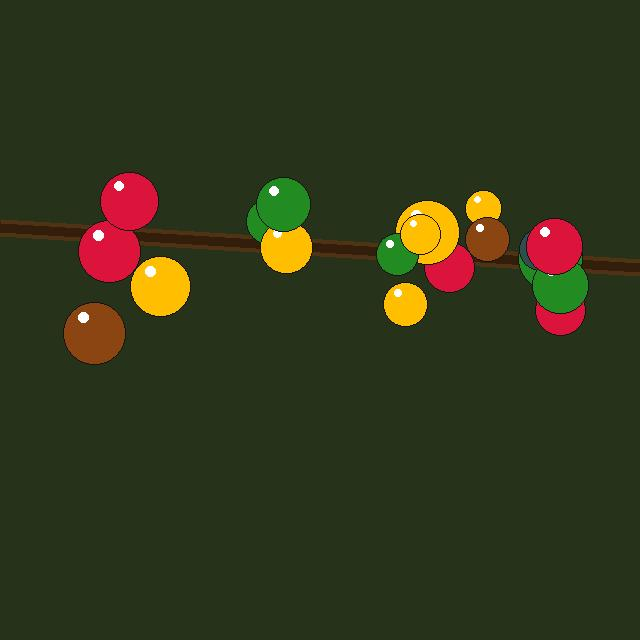Dry_Damaged: (519, 228, 561, 270)
Overripe: (63, 302, 125, 364), (465, 217, 509, 261)
Ripe: (78, 220, 140, 282), (100, 172, 158, 230), (526, 218, 582, 274), (424, 242, 474, 292), (535, 285, 585, 335)
Ripening: (395, 200, 459, 264), (130, 256, 190, 316), (260, 221, 312, 273), (383, 282, 427, 326), (400, 214, 440, 254), (465, 190, 501, 226)
Unripe: (518, 226, 582, 290), (532, 257, 588, 313), (256, 177, 310, 231), (246, 198, 292, 244), (376, 233, 418, 275)
